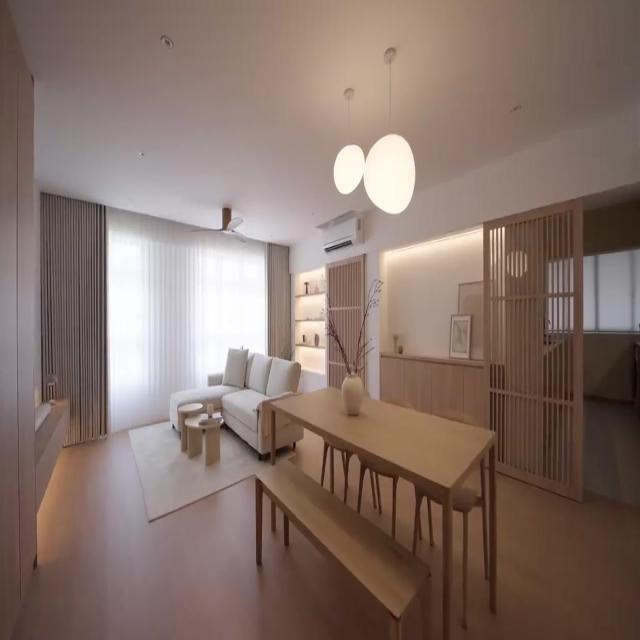door: (483, 199, 583, 501)
obstacle: (268, 386, 497, 638), (168, 349, 326, 462)
